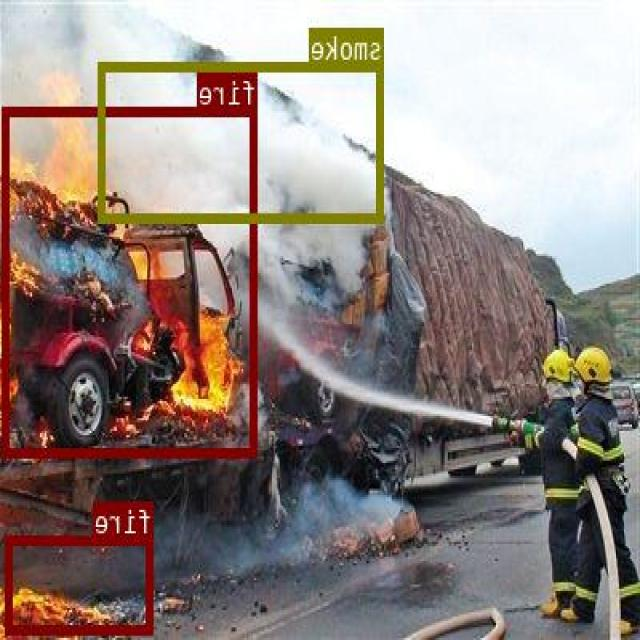fire: (4, 106, 259, 456), (7, 535, 155, 633)
smoke: (100, 60, 384, 221)
